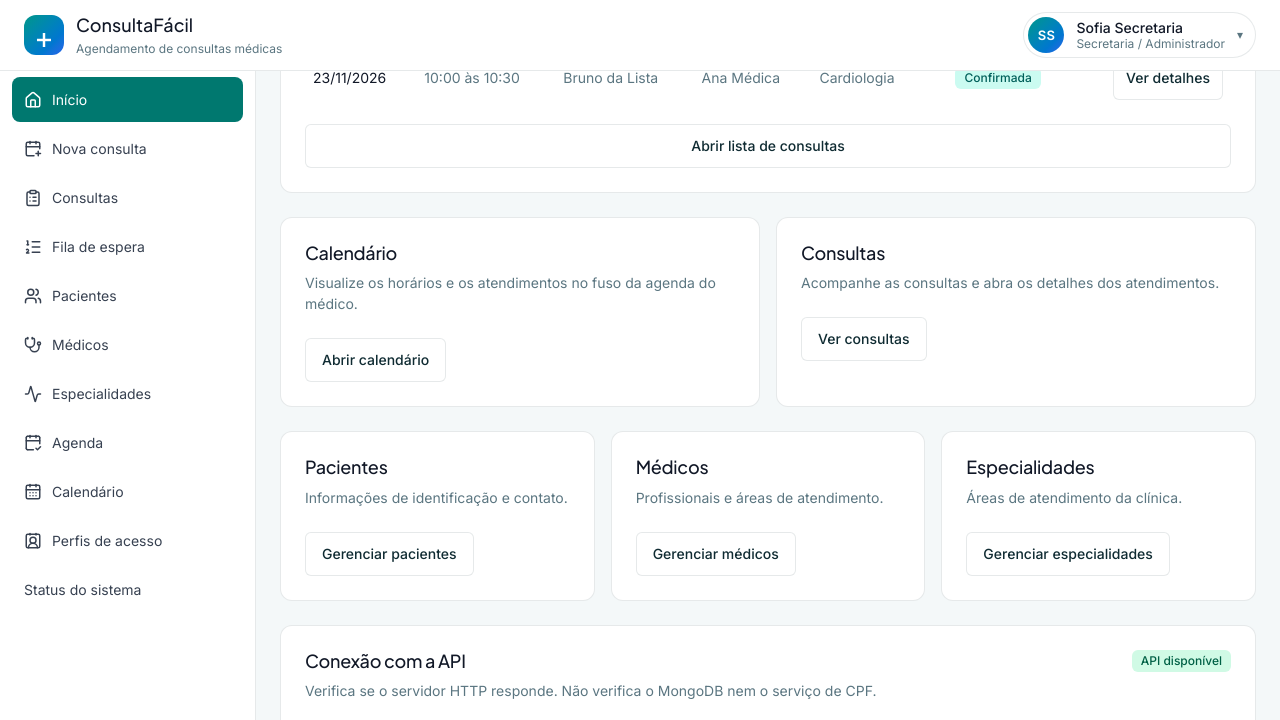
leva as consultas do dia da clínica ao calendário quando a agenda está em UTC
(page scrolled)
Click the link "Abrir calendário".
click(376, 360)  # box [305,338,446,382]
(page scrolled)
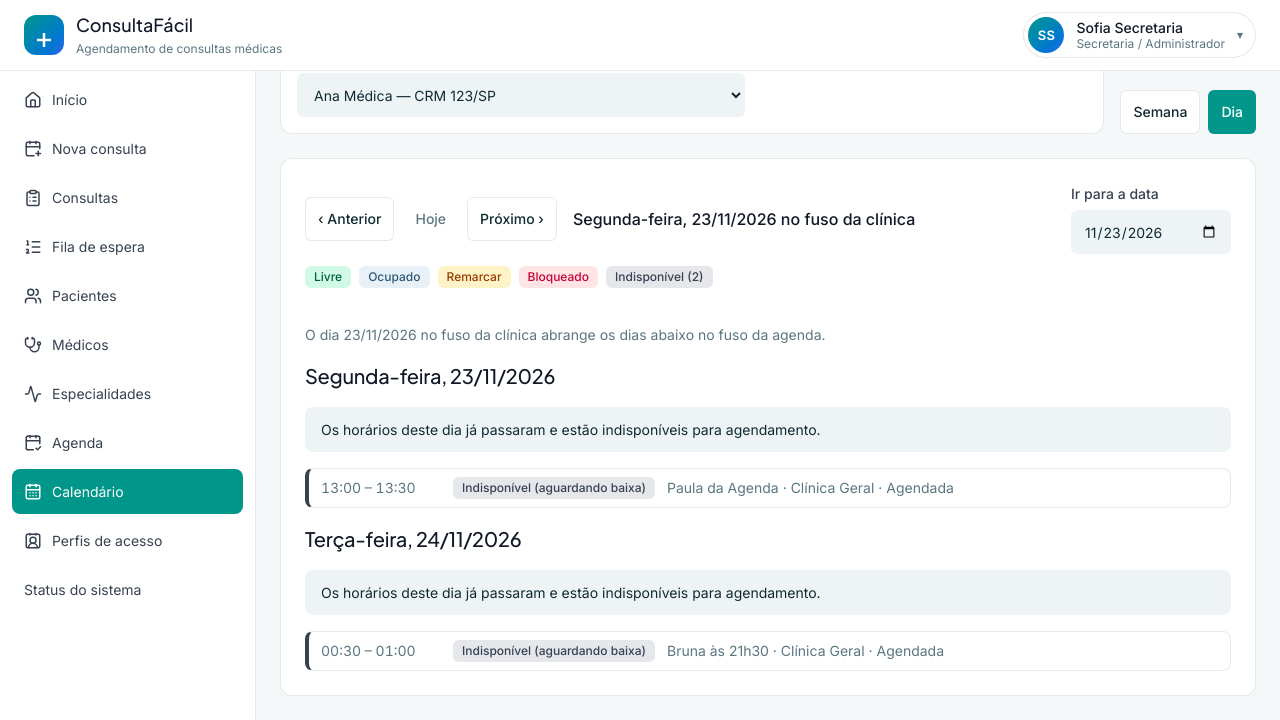
Result: the text "O dia 23/11/2026 no fuso da clínica abrange os dias abaixo no fuso da agenda." is shown at [305,324,826,345]
Result: the heading "Segunda-feira, 23/11/2026" is shown at [305,361,555,391]
Result: the heading "Terça-feira, 24/11/2026" is shown at [305,524,521,554]
Click the button "Semana".
click(1160, 112)  # box [1120,90,1200,134]
(page scrolled)
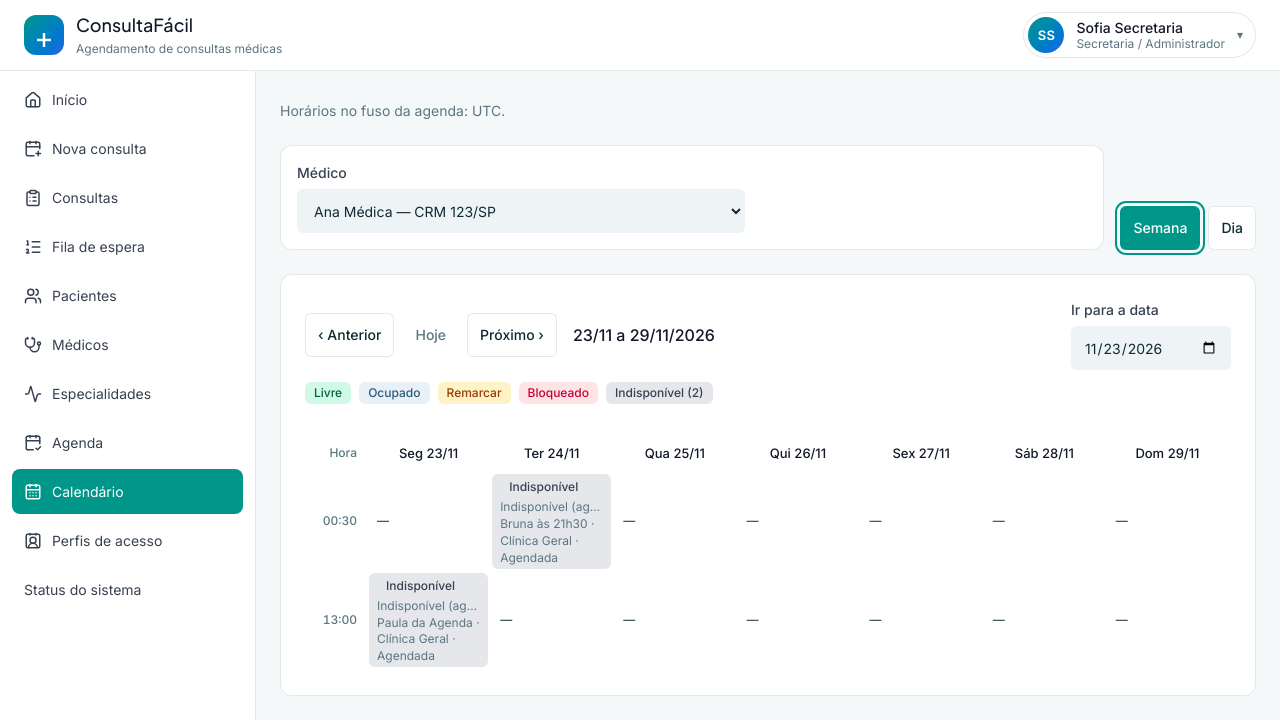
Click the button with aria-label "Ver o dia Segunda-feira, 23/11/2026".
click(429, 453)  # box [370,441,487,465]
(page scrolled)
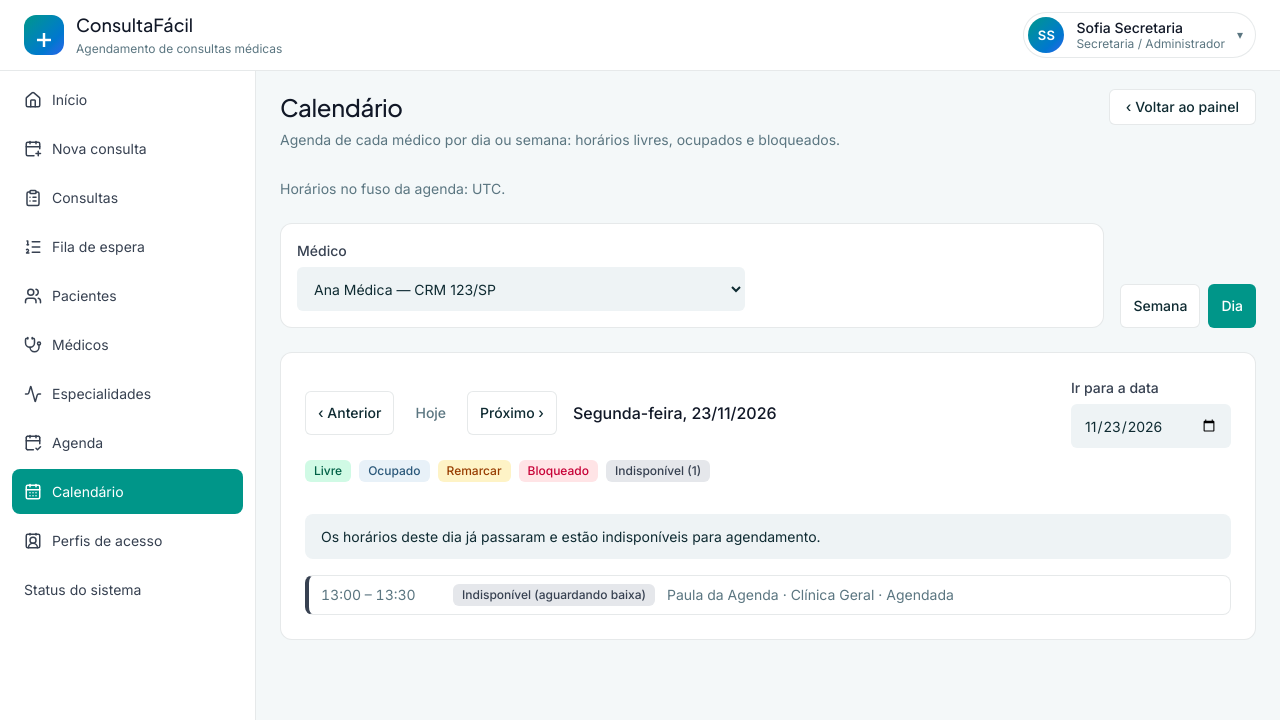
Result: the text "Paula da Agenda · Clínica Geral · Agendada" is shown at [667,586,954,604]
Result: the text "Bruna às 21h30 ·" is gone
Click the link "‹ Voltar ao painel".
click(1182, 107)  # box [1109,89,1256,125]
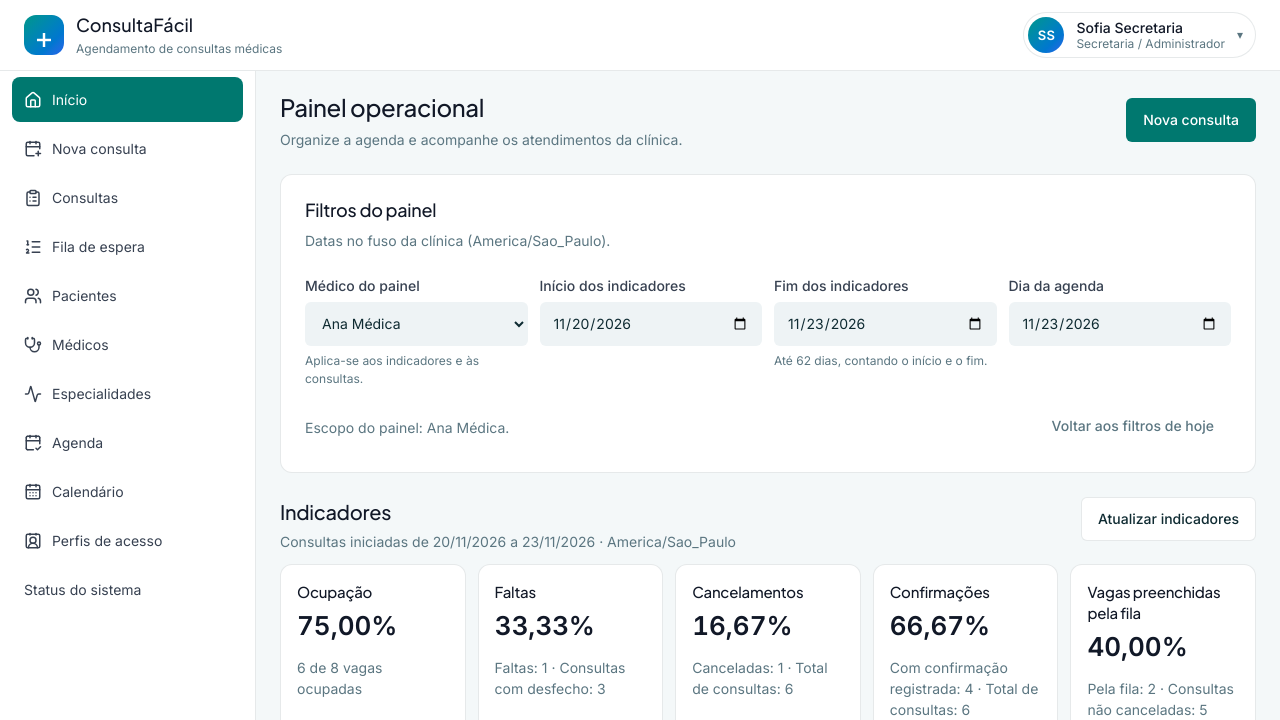
Result: the date field labelled "Fim dos indicadores" holds "2026-11-23" at [774,302,996,346]
Result: the dropdown labelled "Médico do painel" shows "Ana Médica" at [305,302,528,346]
Result: the date field labelled "Início dos indicadores" holds "2026-11-20" at [540,302,762,346]
